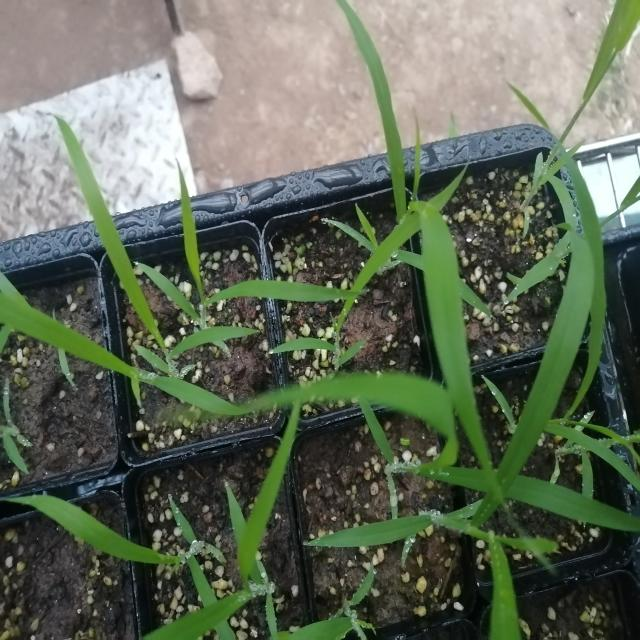crabgrass: (0, 139, 294, 412), (380, 276, 640, 552), (353, 42, 488, 440)
